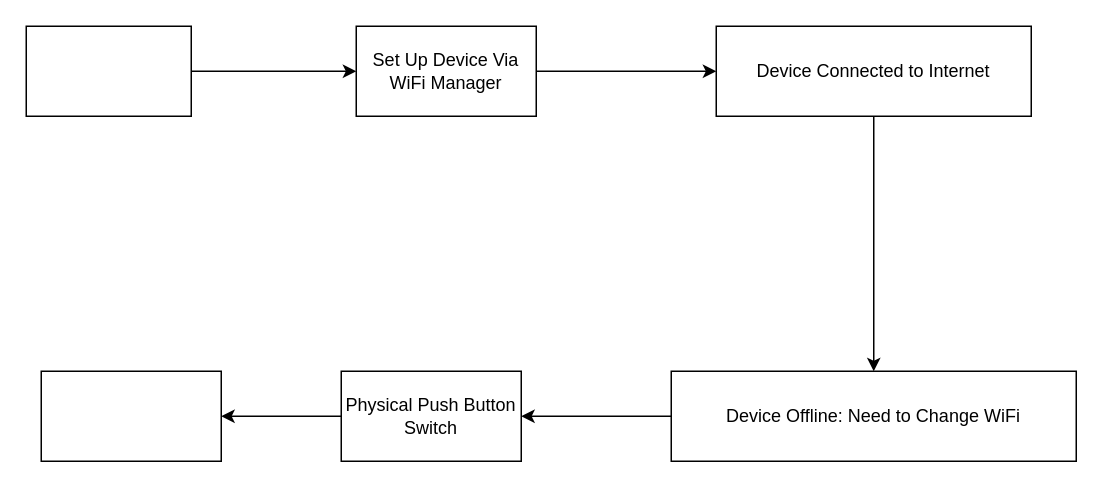
The diagram is 1103 pixels wide and 488 high, and some of its shapes have lost their labels. The box of each missing label's shape, as (x1, y1, x2, y2) in pixels:
Flash Device: (25, 25, 191, 116)
WiFi Manager: (40, 370, 221, 461)
